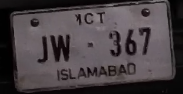JW367: (3, 1, 181, 93)
